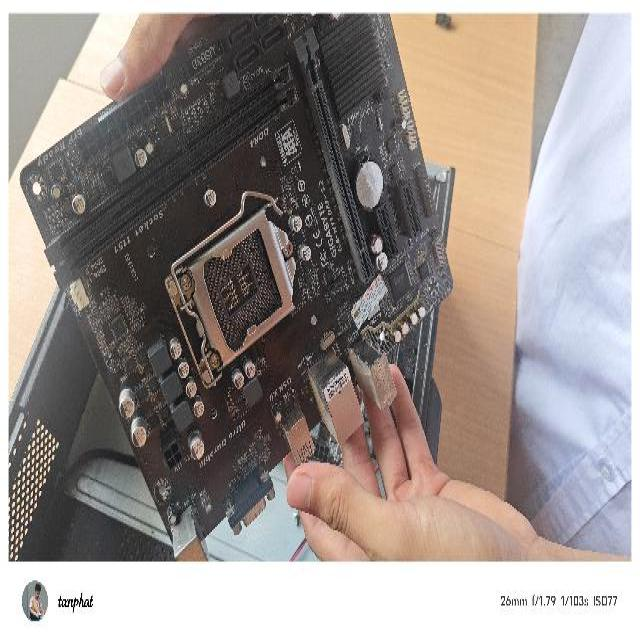Mainboard: (16, 13, 476, 492)
